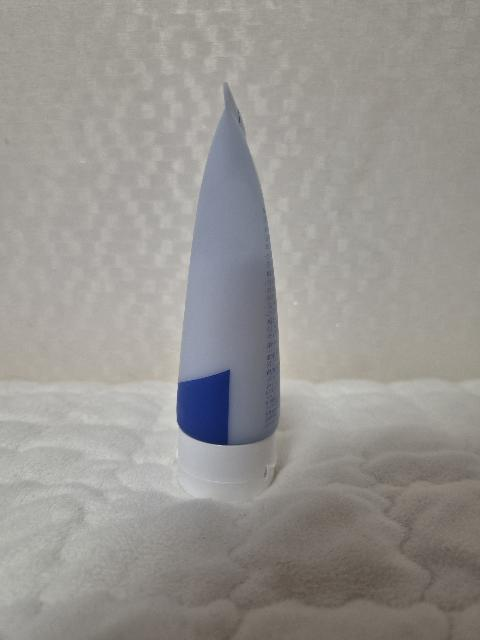handcream: (176, 82, 281, 504)
